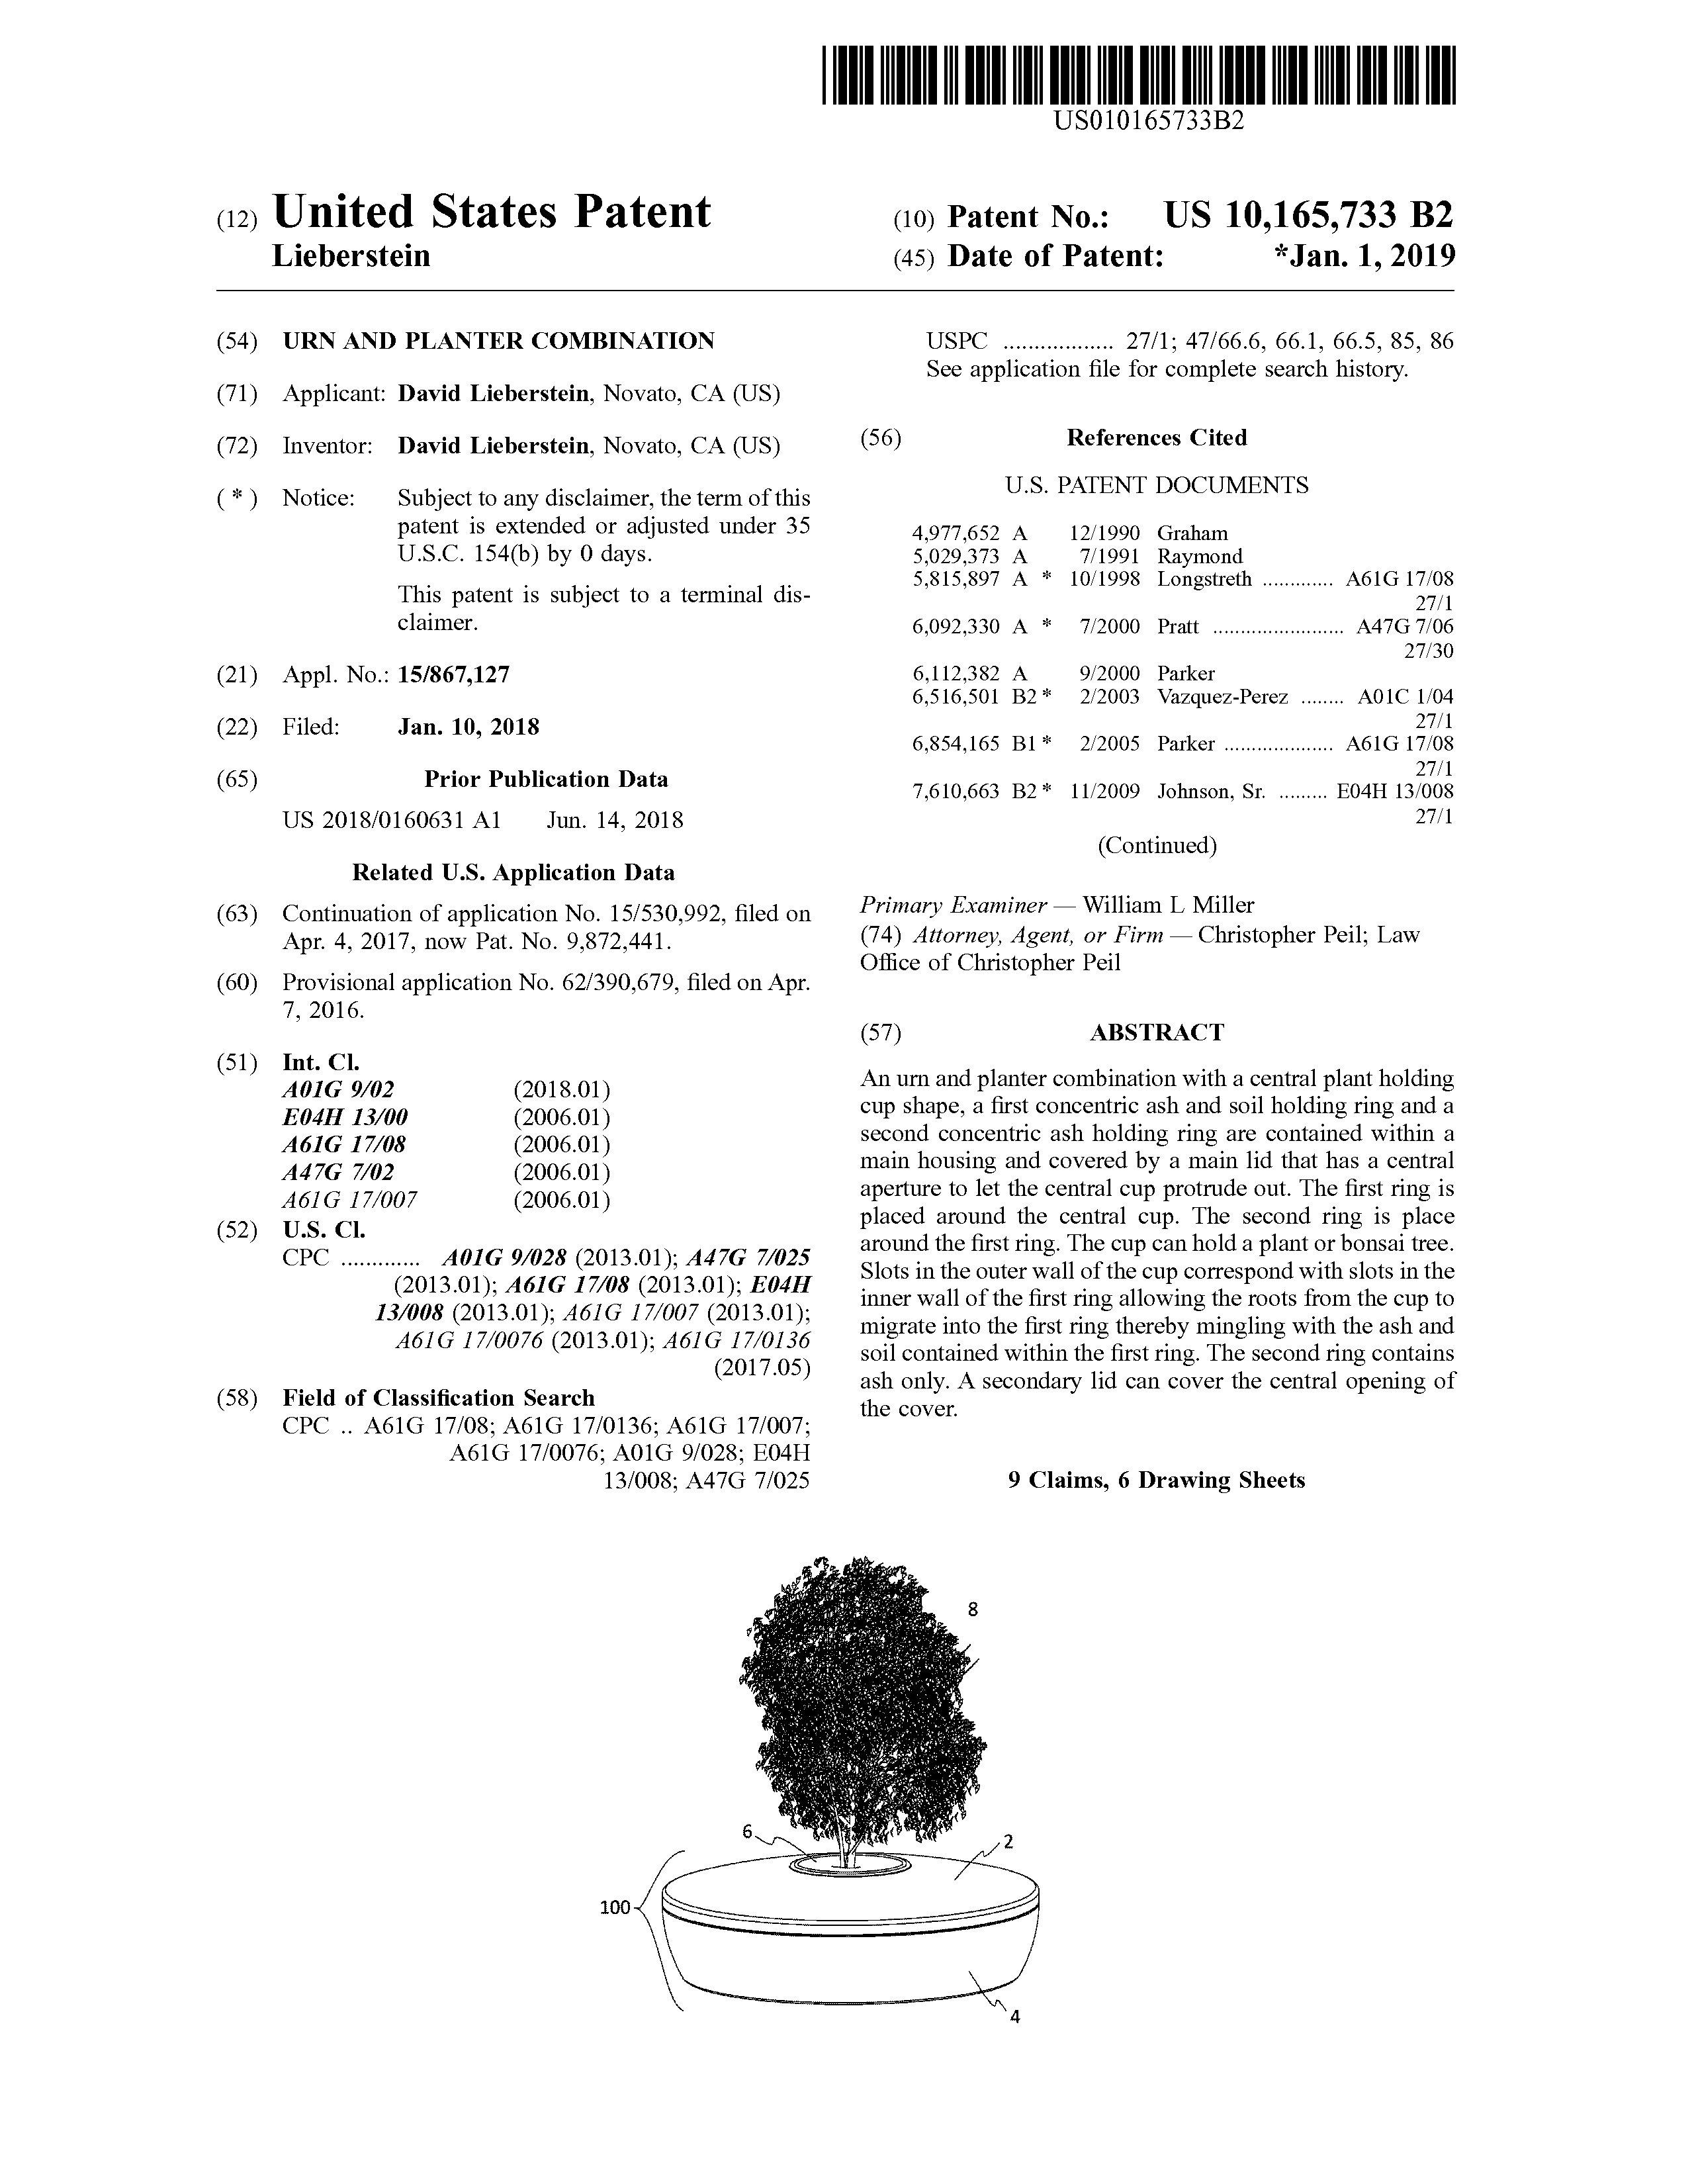patent image: (563, 1527, 1116, 2080)
